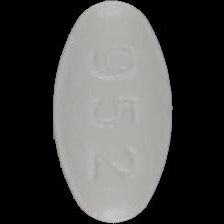55154-5016: (0, 0, 224, 224)
